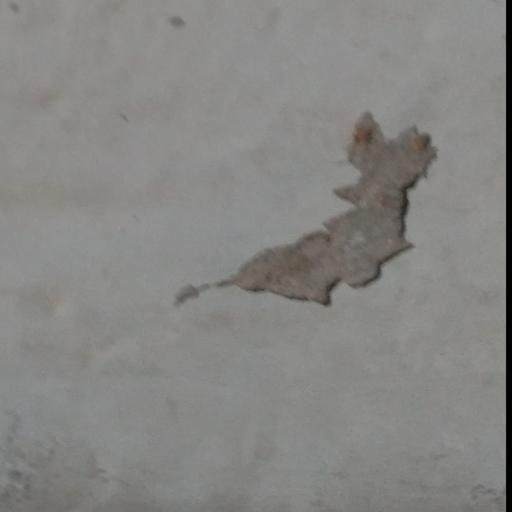peeling: (142, 102, 440, 323)
